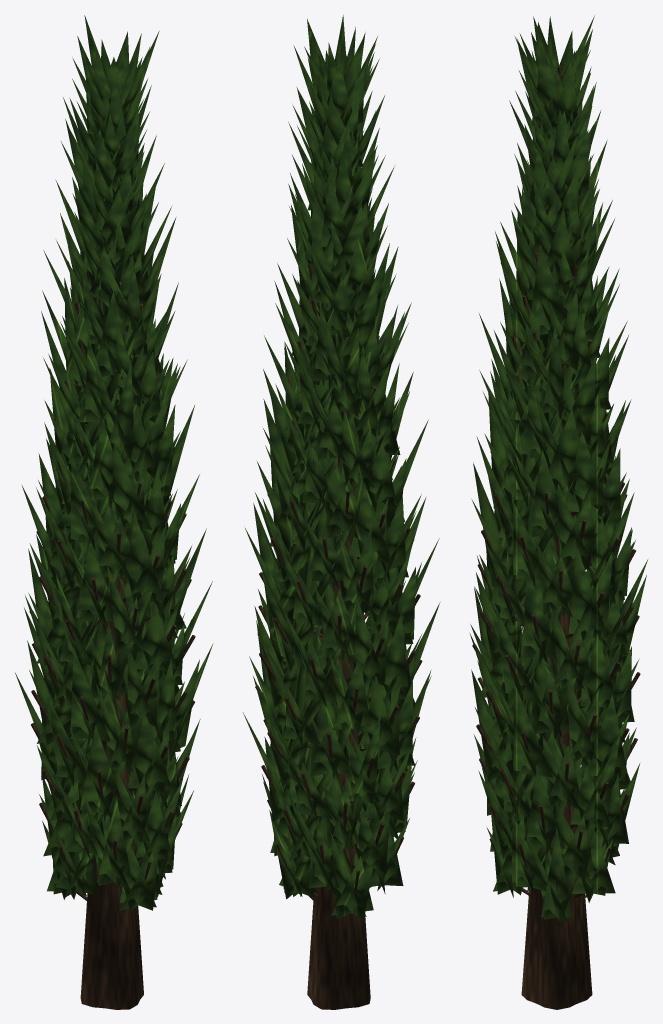
The model's file is Cypress.fbx.
The picture shows the model from 3 angles, left to right: view 1: azimuth 30°, elevation 25°; view 2: azimuth 150°, elevation 25°; view 3: azimuth 270°, elevation 25°; orthographic projection.
Parts seen in each view (by area): view 1: Cypress_Leaf, Cypress_Bark; view 2: Cypress_Leaf, Cypress_Bark; view 3: Cypress_Leaf, Cypress_Bark.
Part boxes in pixels (bbox=[...]): Cypress_Leaf: bbox=[15, 15, 213, 911]; Cypress_Bark: bbox=[29, 184, 195, 1009]; Cypress_Leaf: bbox=[243, 15, 440, 920]; Cypress_Bark: bbox=[255, 75, 422, 1009]; Cypress_Leaf: bbox=[469, 15, 647, 924]; Cypress_Bark: bbox=[472, 65, 640, 1009].
Bounding box in the file's own units: 115 × 669 × 112.
